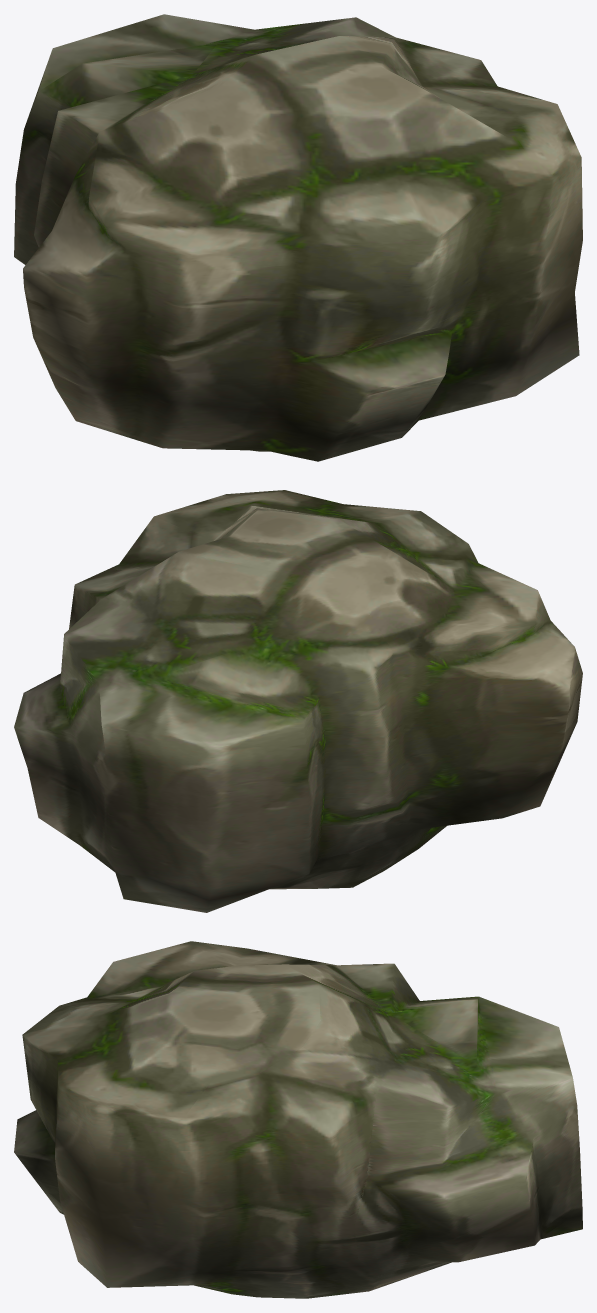
File: RockFormation_4_2 (47).fbx
3 renders of one model, top to bottom at view 1: azimuth 30°, elevation 25°; view 2: azimuth 150°, elevation 25°; view 3: azimuth 270°, elevation 25°, orthographic. The views are drawn at different scales.
Parts seen in each view (by area): view 1: RockFormation_4_2 (47); view 2: RockFormation_4_2 (47); view 3: RockFormation_4_2 (47).
Boxes of the visible parts, x1,y1,x2,y2 form: RockFormation_4_2 (47): [14, 14, 582, 461]; RockFormation_4_2 (47): [14, 490, 582, 912]; RockFormation_4_2 (47): [14, 941, 582, 1298].
Size of the model in its own units: 300 by 191 by 331.
